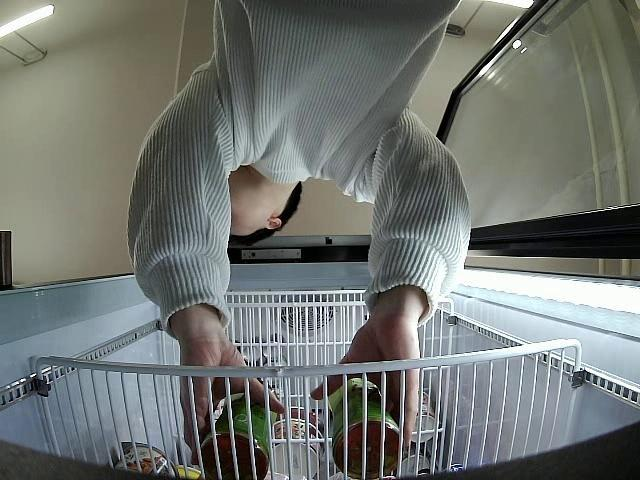19_17cha: (329, 376, 402, 480), (200, 382, 277, 480)
